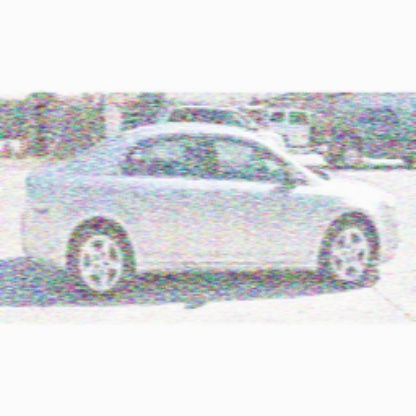Vehicle: (22, 126, 406, 304)
